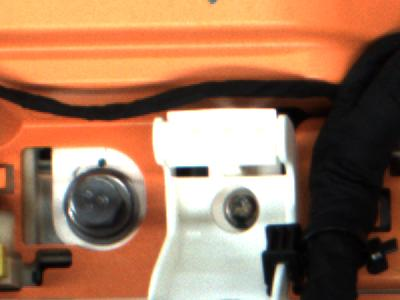nut_b: (59, 163, 150, 251)
